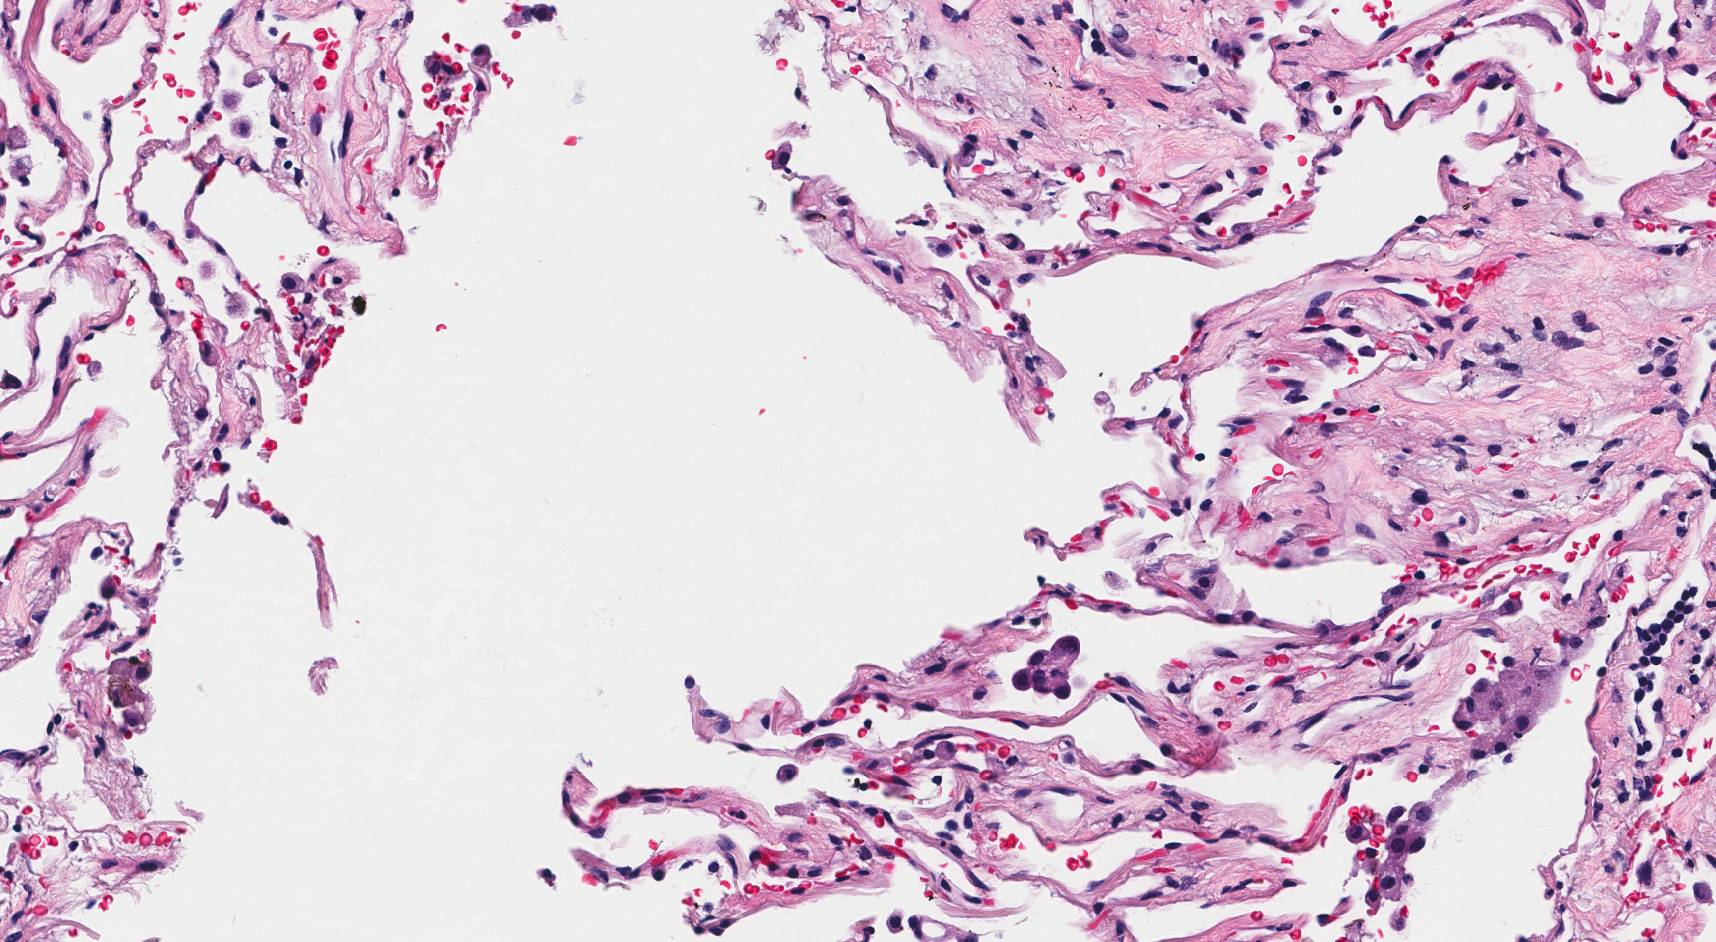stas: (1012, 635, 1083, 701)
